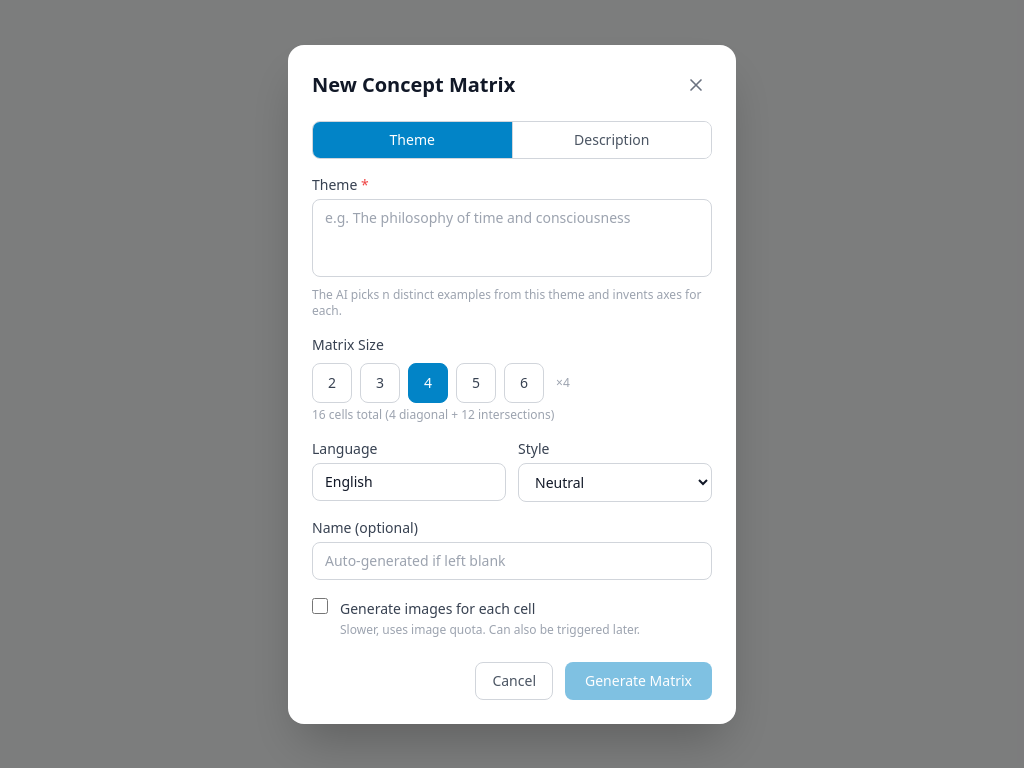
NewMatrixModal — validation › Generate Matrix is enabled when description mode has any content
This screenshot has width=1024, height=768.
Step 1. Click the button "Description" → x=611, y=140, box [512,122,711,158]
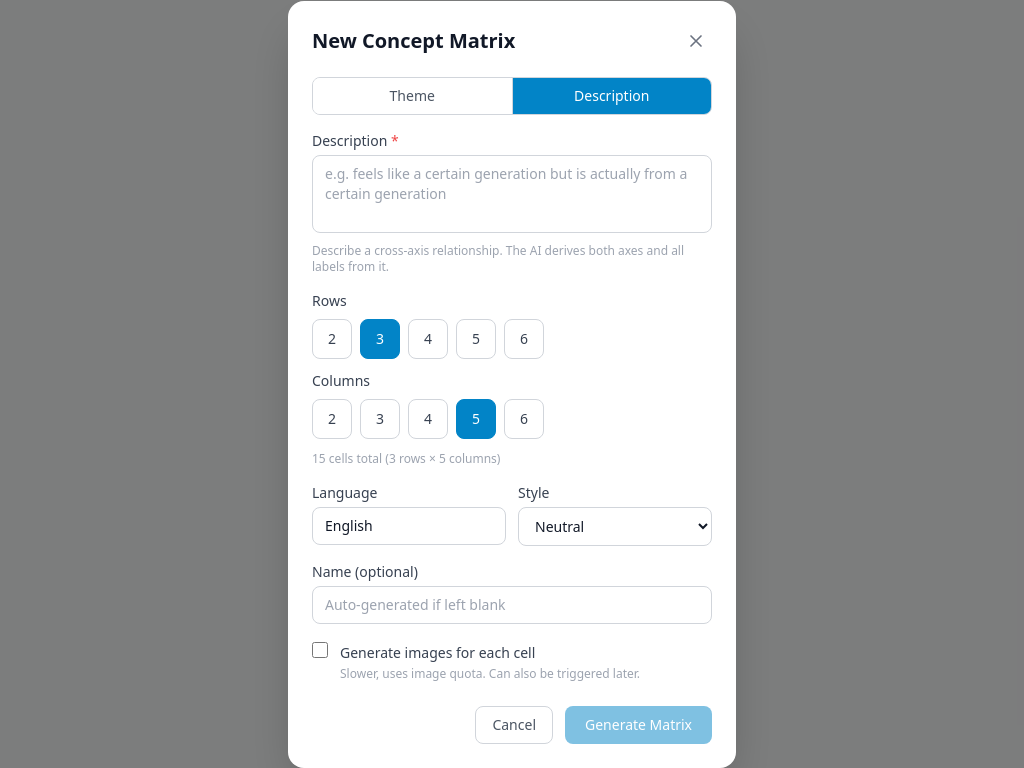
Step 2. Replace the text in the text box with placeholder "feels like a certain" with "anything" → x=512, y=194, box [312,154,712,232]
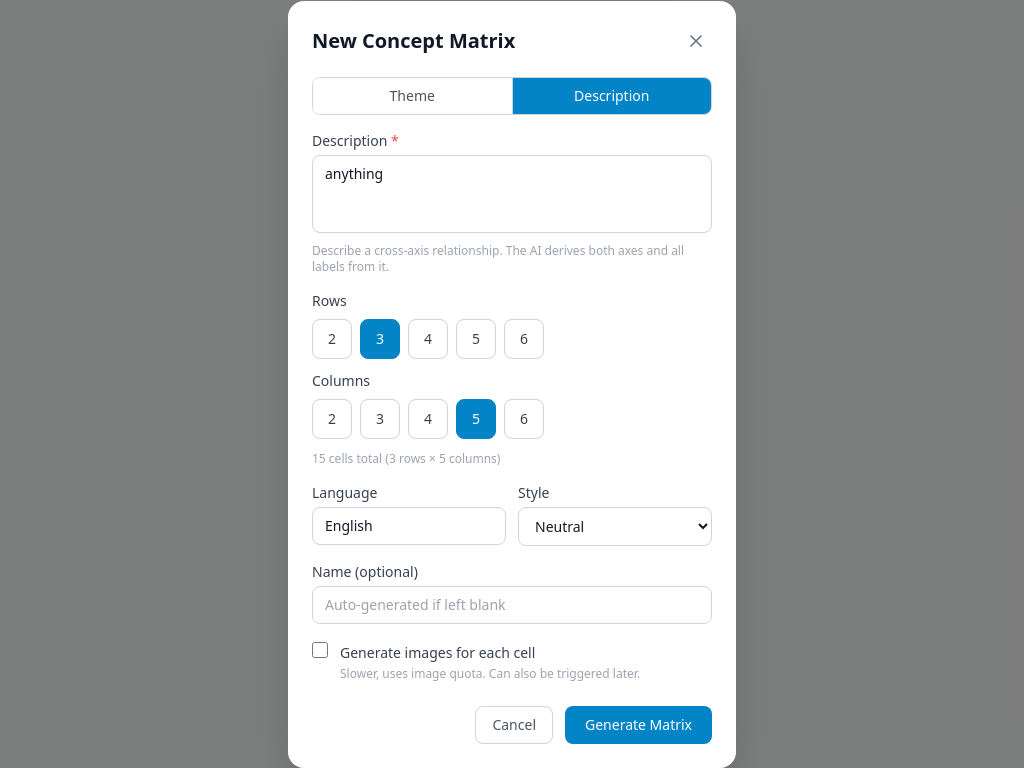
Check: the button "Generate Matrix" is enabled, box [565,706,712,744]
